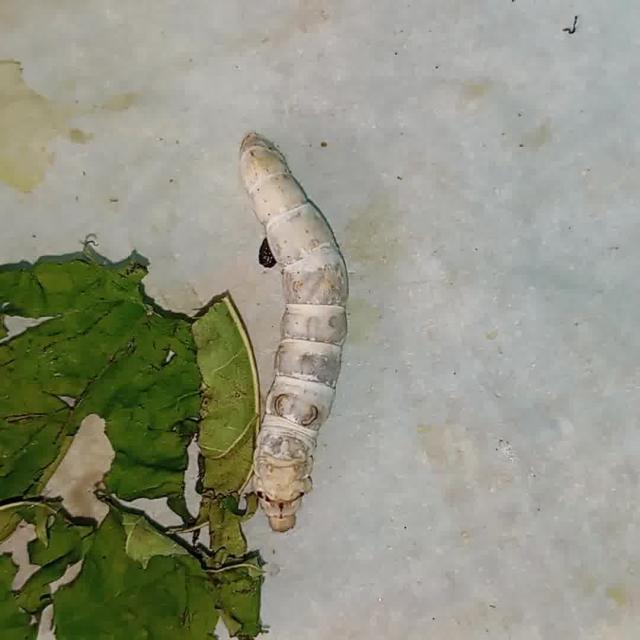Grasserie: (212, 115, 375, 542)
